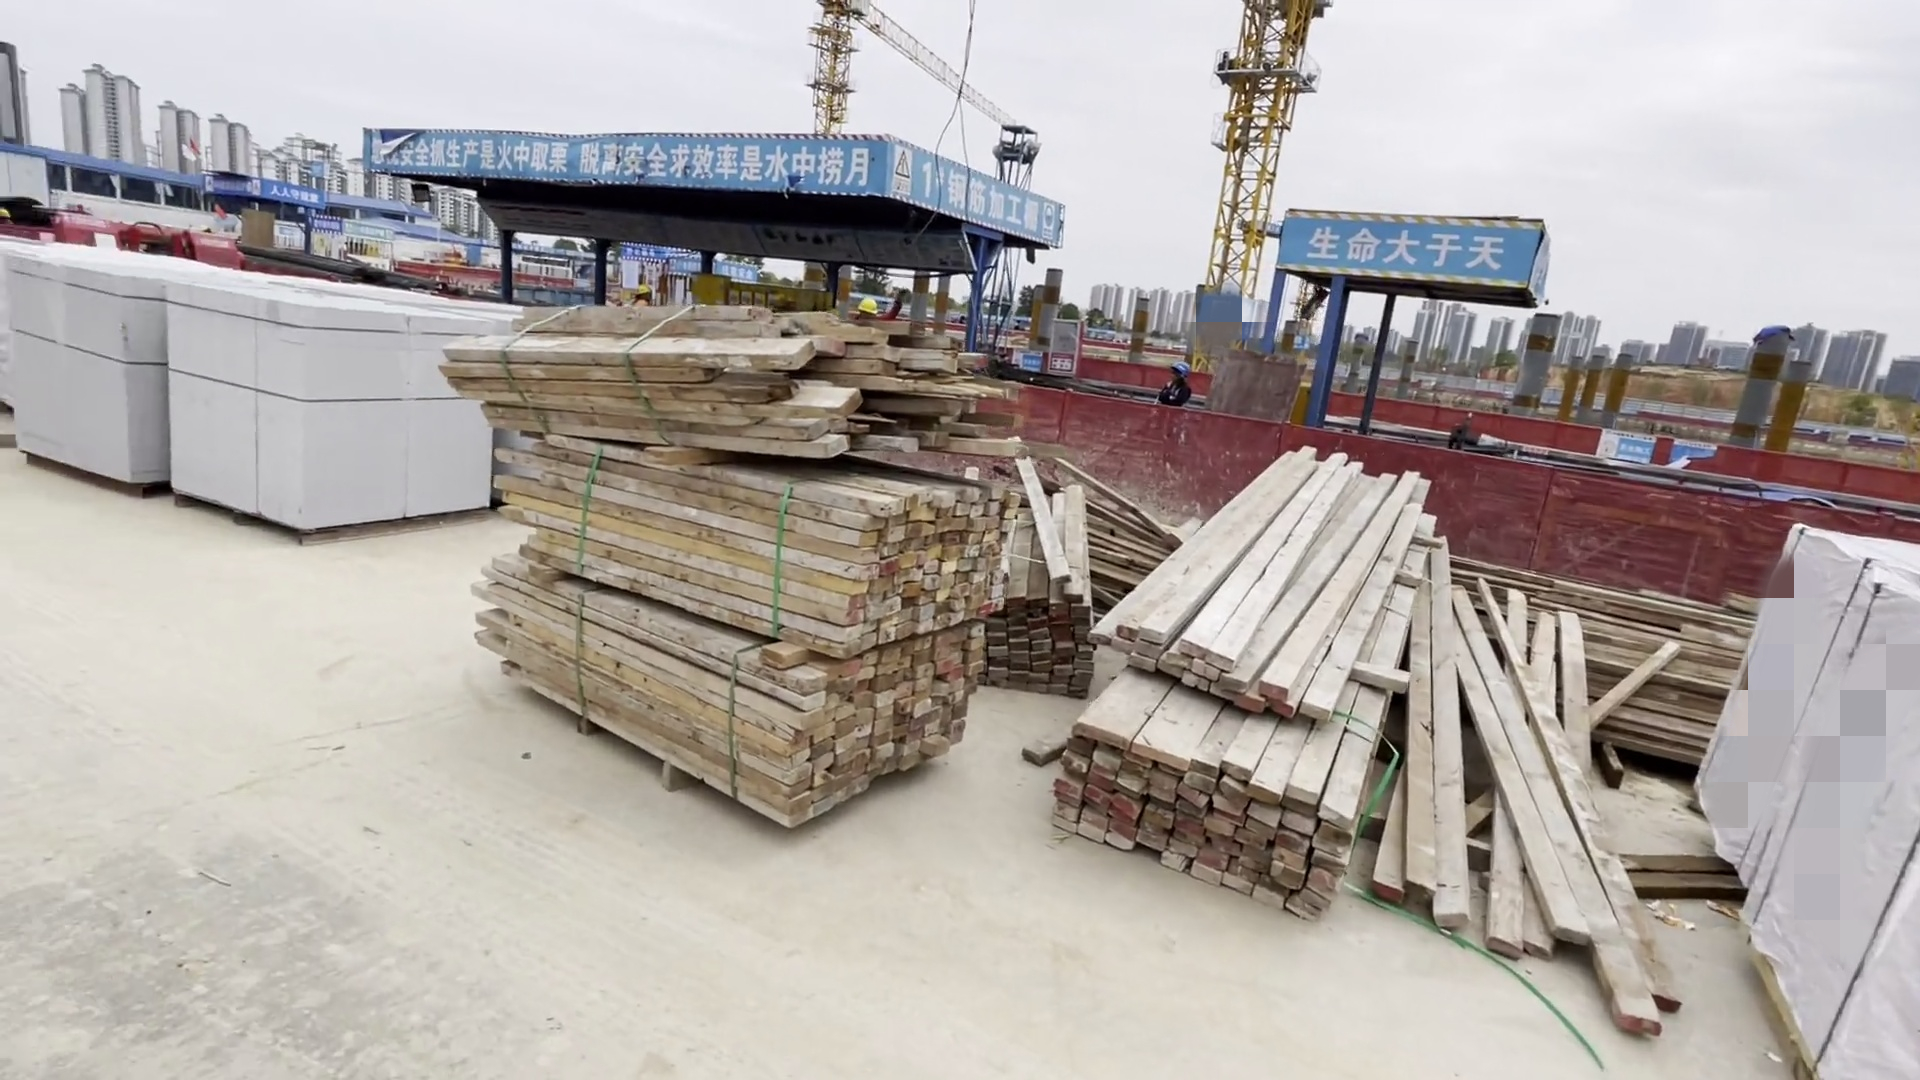brick: (6, 242, 475, 564)
helmet: (852, 291, 880, 323)
person: (1154, 354, 1197, 414)
slogan: (371, 125, 1069, 233), (1288, 209, 1528, 275)
wood: (1086, 418, 1693, 1051), (471, 303, 1036, 851)
